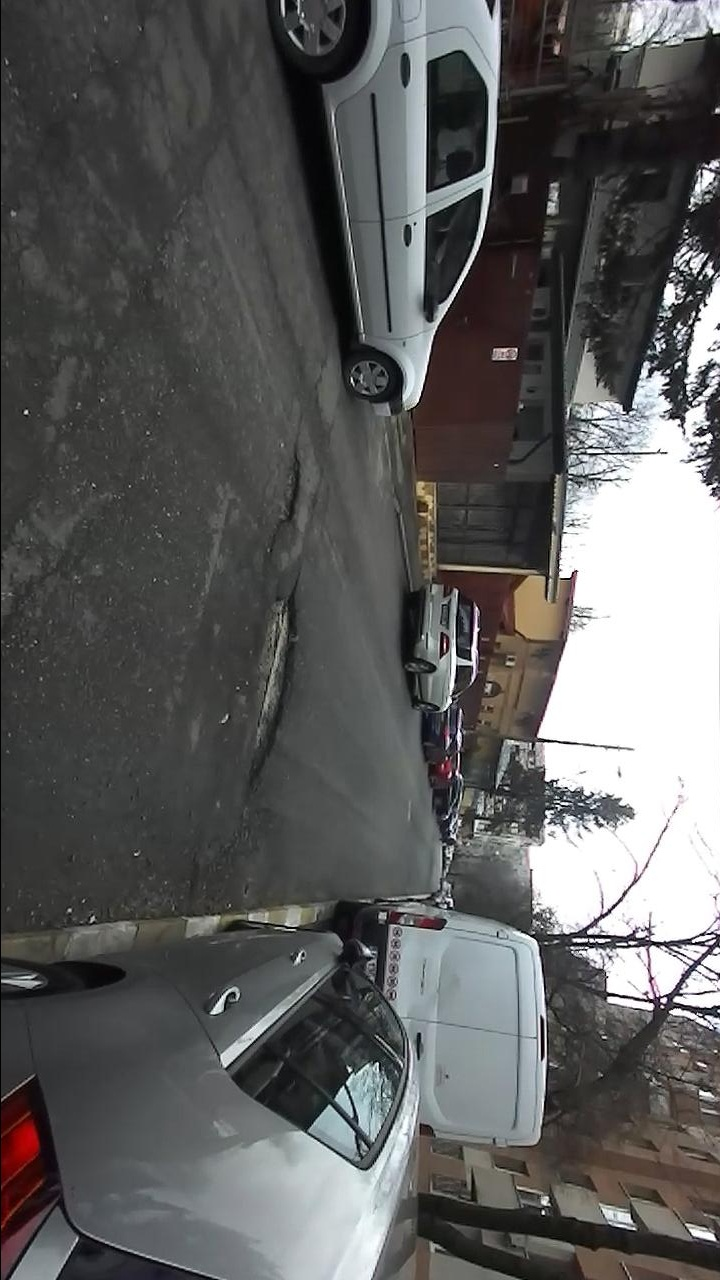pothole: (234, 564, 308, 811), (263, 435, 304, 555)
